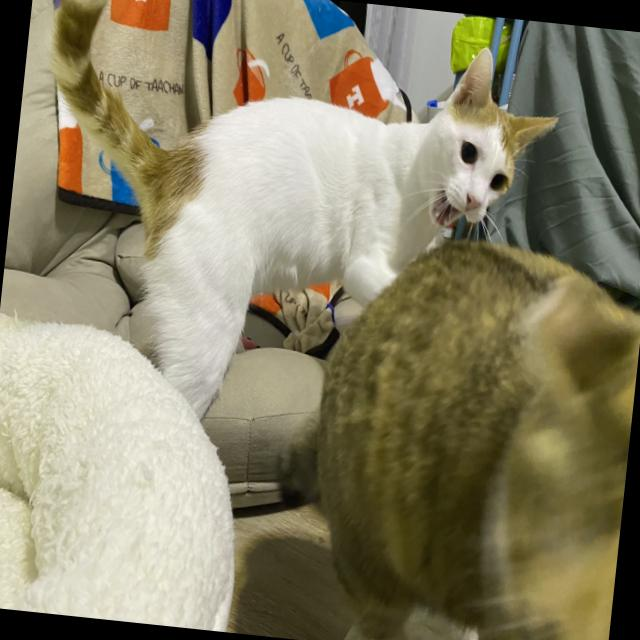cat1: (29, 0, 565, 313)
cat2: (301, 227, 640, 640)
